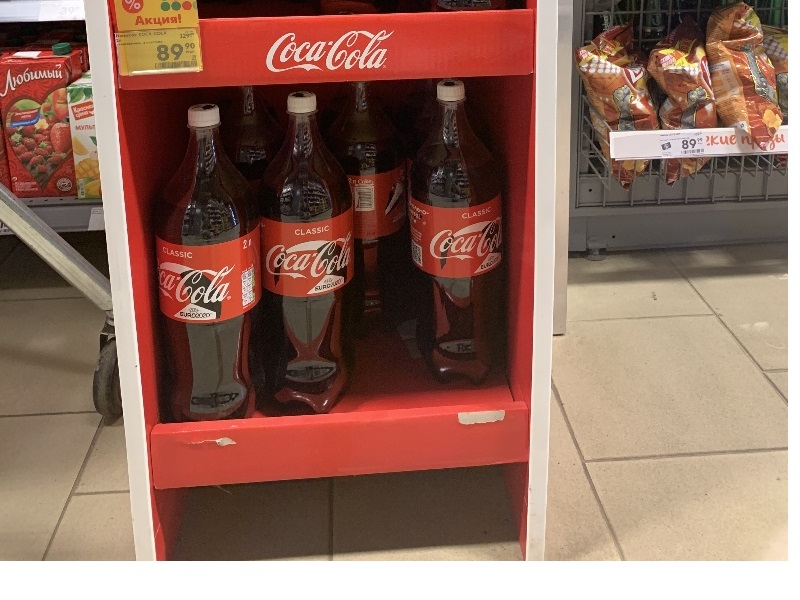lemonade: (153, 100, 273, 439), (252, 89, 367, 427), (408, 79, 522, 399)
